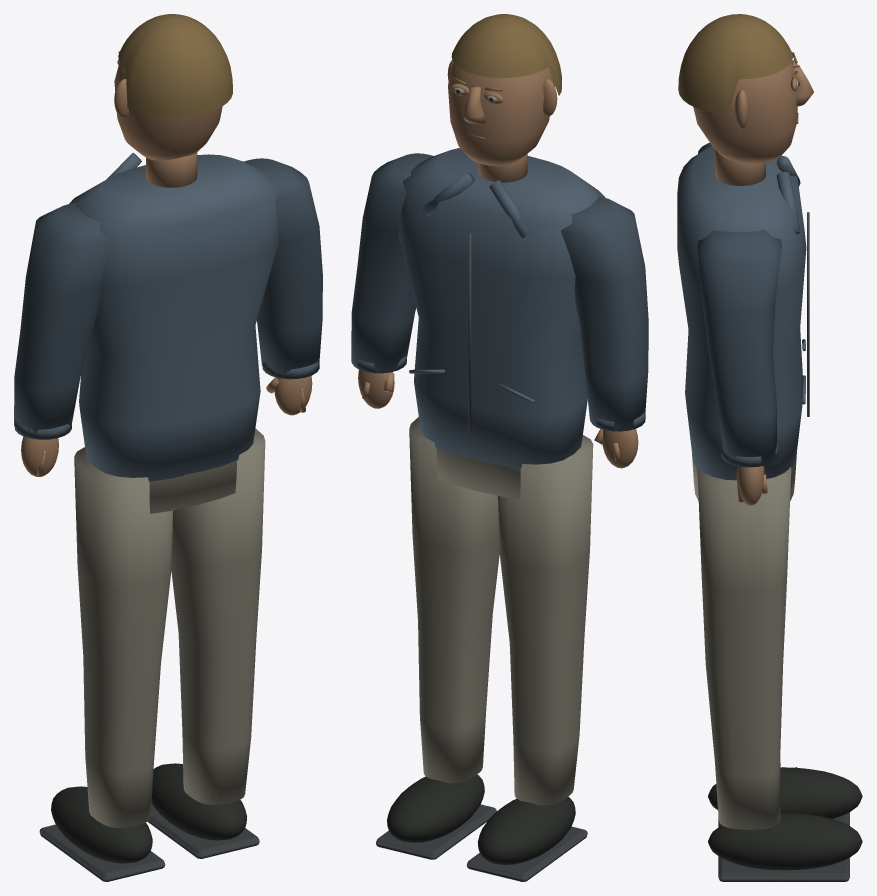
Rendered from pedestrian_3.glb.
3 views of the same model, side by side, from view 1: azimuth 30°, elevation 25°; view 2: azimuth 150°, elevation 25°; view 3: azimuth 270°, elevation 25° (orthographic). The views are drawn at different scales.
Visible parts, largest first — view 1: Person_Coat fabric, leg_L_Detailed human vertex surfaces, leg_R_Detailed human vertex surfaces, arm_L_Detailed human vertex surfaces, head_Detailed human vertex surfaces, arm_R_Detailed human vertex surfaces, Person_Denim trousers; view 2: Person_Coat fabric, leg_L_Detailed human vertex surfaces, leg_R_Detailed human vertex surfaces, arm_L_Detailed human vertex surfaces, head_Detailed human vertex surfaces, arm_R_Detailed human vertex surfaces, Person_Denim trousers, Person_Chassis graphite; view 3: leg_R_Detailed human vertex surfaces, Person_Coat fabric, arm_R_Detailed human vertex surfaces, head_Detailed human vertex surfaces, leg_L_Detailed human vertex surfaces, Person_Chassis graphite.
Part boxes in pixels (x1,y1,x2,y2): Person_Coat fabric: (69,153,278,481); leg_L_Detailed human vertex surfaces: (39,447,173,881); leg_R_Detailed human vertex surfaces: (147,428,265,858); arm_L_Detailed human vertex surfaces: (14,202,110,476); head_Detailed human vertex surfaces: (114,14,232,187); arm_R_Detailed human vertex surfaces: (244,158,322,415); Person_Denim trousers: (149,460,236,513); Person_Coat fabric: (398,148,605,468); leg_L_Detailed human vertex surfaces: (466,435,593,881); leg_R_Detailed human vertex surfaces: (376,417,499,859); arm_L_Detailed human vertex surfaces: (560,196,648,468); head_Detailed human vertex surfaces: (447,14,561,182); arm_R_Detailed human vertex surfaces: (351,153,433,408); Person_Denim trousers: (436,448,520,499); Person_Chassis graphite: (468,232,471,432); leg_R_Detailed human vertex surfaces: (697,467,862,881); Person_Coat fabric: (677,146,806,480); arm_R_Detailed human vertex surfaces: (697,229,781,505); head_Detailed human vertex surfaces: (678,14,813,185); leg_L_Detailed human vertex surfaces: (708,760,862,827); Person_Chassis graphite: (807,212,809,416).
Size of the model in its own units: 0.656 by 1.77 by 0.359.
